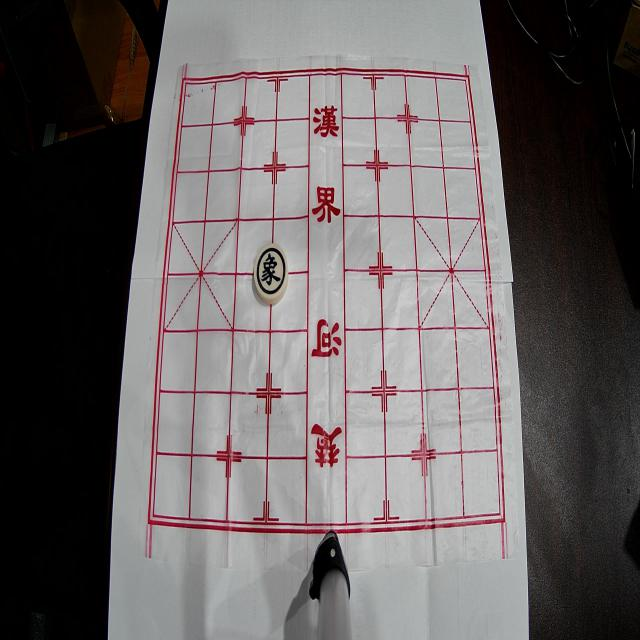black-elephant: (254, 243, 288, 304)
